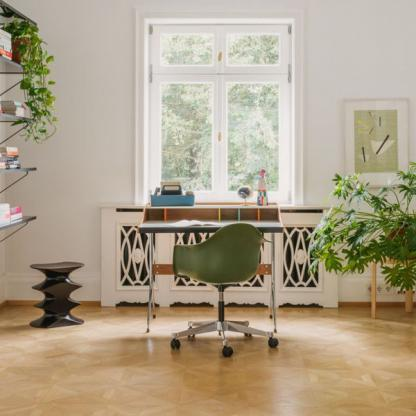chair: (168, 220, 285, 364)
table: (137, 204, 290, 329), (28, 260, 92, 332), (369, 250, 416, 324)
